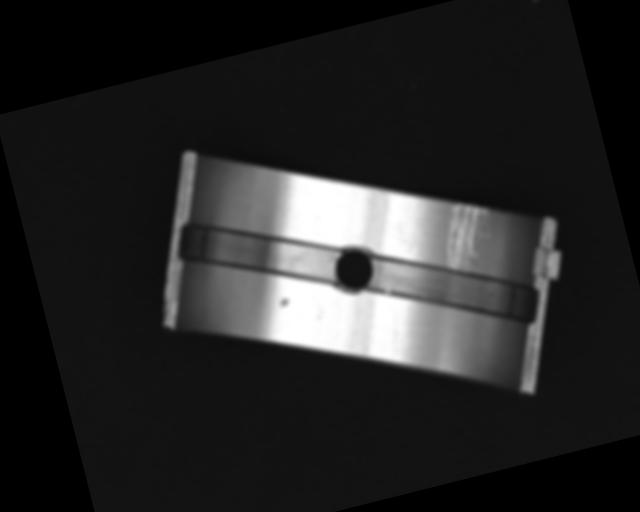bruise: (277, 296, 290, 309)
gap: (361, 224, 542, 359), (174, 191, 344, 312)
hole: (329, 243, 378, 296)
nick: (385, 316, 407, 358)
scratch: (434, 196, 500, 275)
